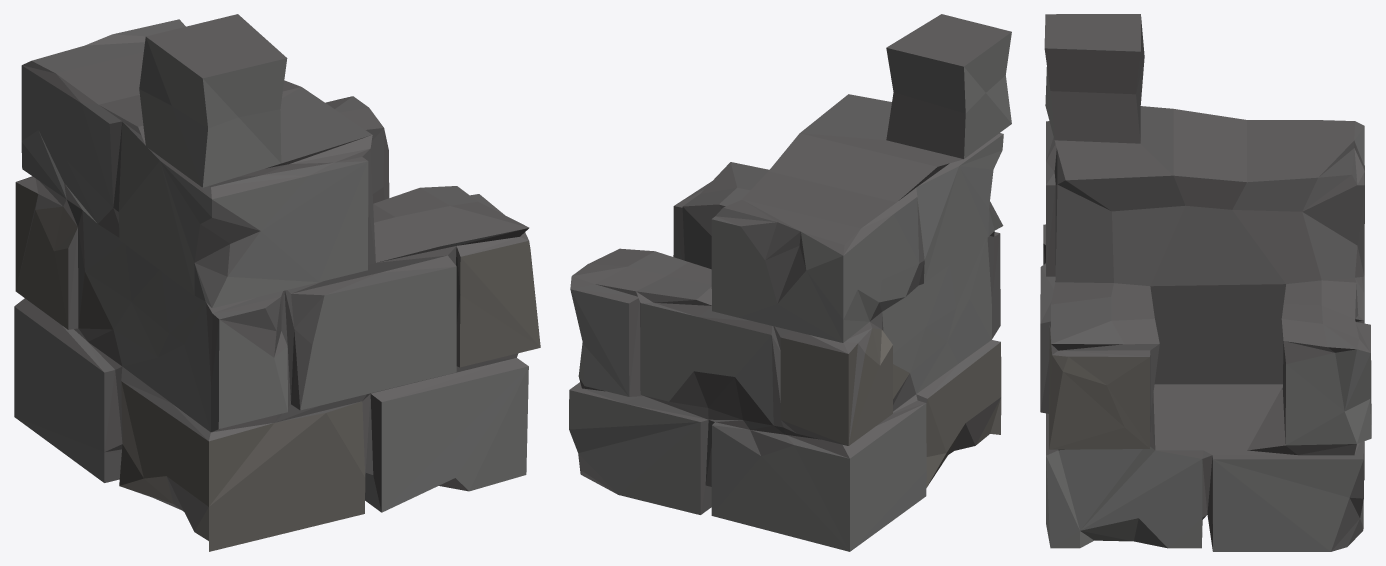
Rendered from SM_Env_Wall_Pillar_Large_Broken_01.FBX.
The picture shows the model from 3 angles, left to right: view 1: azimuth 30°, elevation 25°; view 2: azimuth 150°, elevation 25°; view 3: azimuth 270°, elevation 25°; orthographic projection. The views are drawn at different scales.
Visible parts, largest first — view 1: SM_Env_Wall_Pillar_Large_Broken_01; view 2: SM_Env_Wall_Pillar_Large_Broken_01; view 3: SM_Env_Wall_Pillar_Large_Broken_01.
Part boxes in pixels (box(x1,y1,x2,y2)): SM_Env_Wall_Pillar_Large_Broken_01: box(14, 14, 540, 551); SM_Env_Wall_Pillar_Large_Broken_01: box(569, 14, 1011, 551); SM_Env_Wall_Pillar_Large_Broken_01: box(1040, 14, 1371, 551).
Size of what is drawn, in the model's own units: 211 by 210 by 280.
